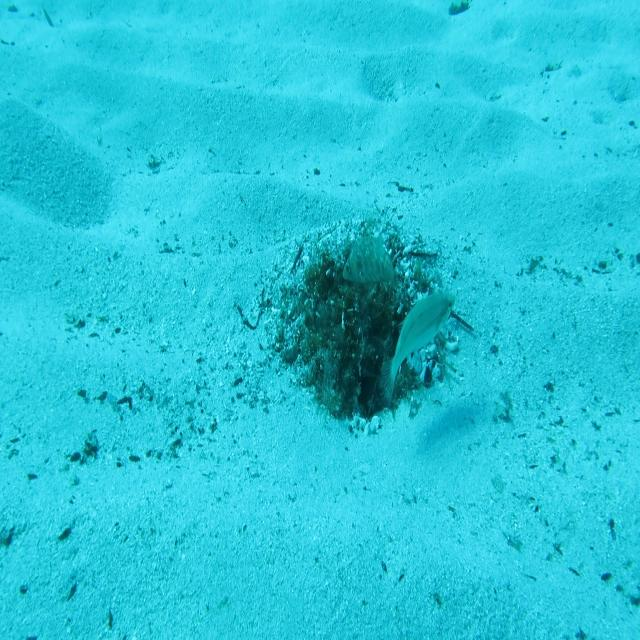INSF: (341, 228, 402, 292)
core_nest: (334, 268, 396, 315)
female: (376, 288, 458, 412)
nest: (262, 202, 475, 442)
vegetation: (446, 0, 474, 20)
